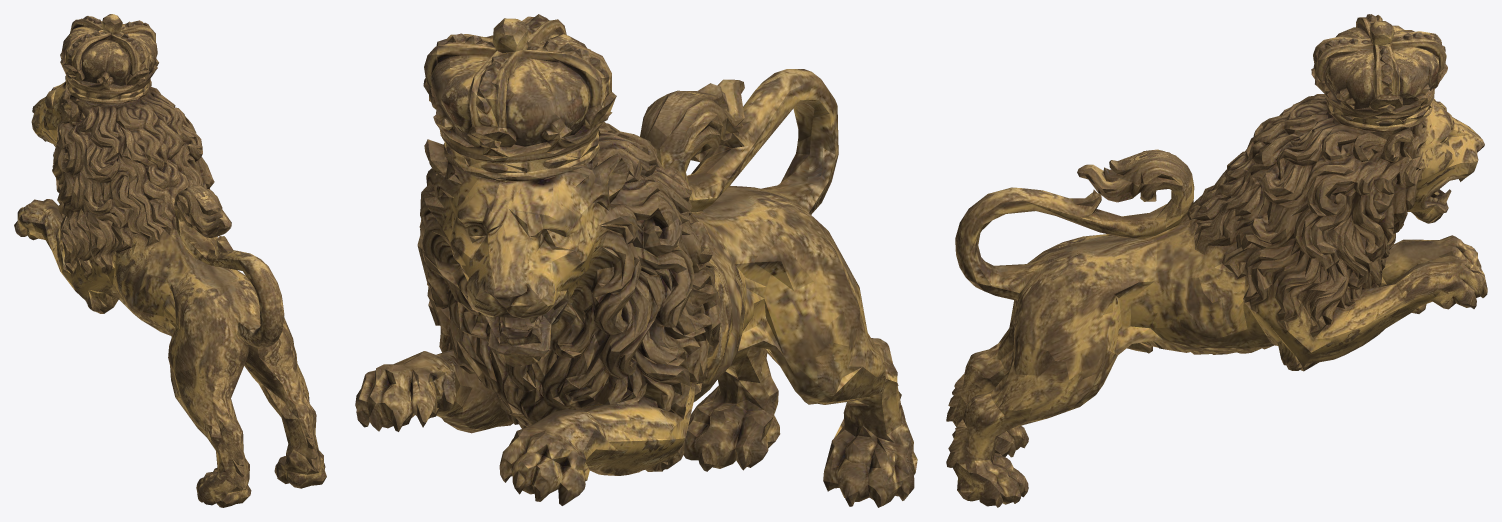
Rendered from figurehead_lion.glb.
3 renders of one model, left to right at view 1: azimuth 30°, elevation 25°; view 2: azimuth 150°, elevation 25°; view 3: azimuth 270°, elevation 25°, orthographic. The views are drawn at different scales.
Visible parts, largest first — view 1: output_unwrapped; view 2: output_unwrapped; view 3: output_unwrapped.
Boxes of the visible parts, left/top/right/bottom form: output_unwrapped: left=14, top=14, right=326, bottom=507; output_unwrapped: left=355, top=14, right=917, bottom=507; output_unwrapped: left=946, top=14, right=1487, bottom=507.
Size of the model in its own units: 0.4008 by 1 by 1.08.
1 material, 1 textured.
